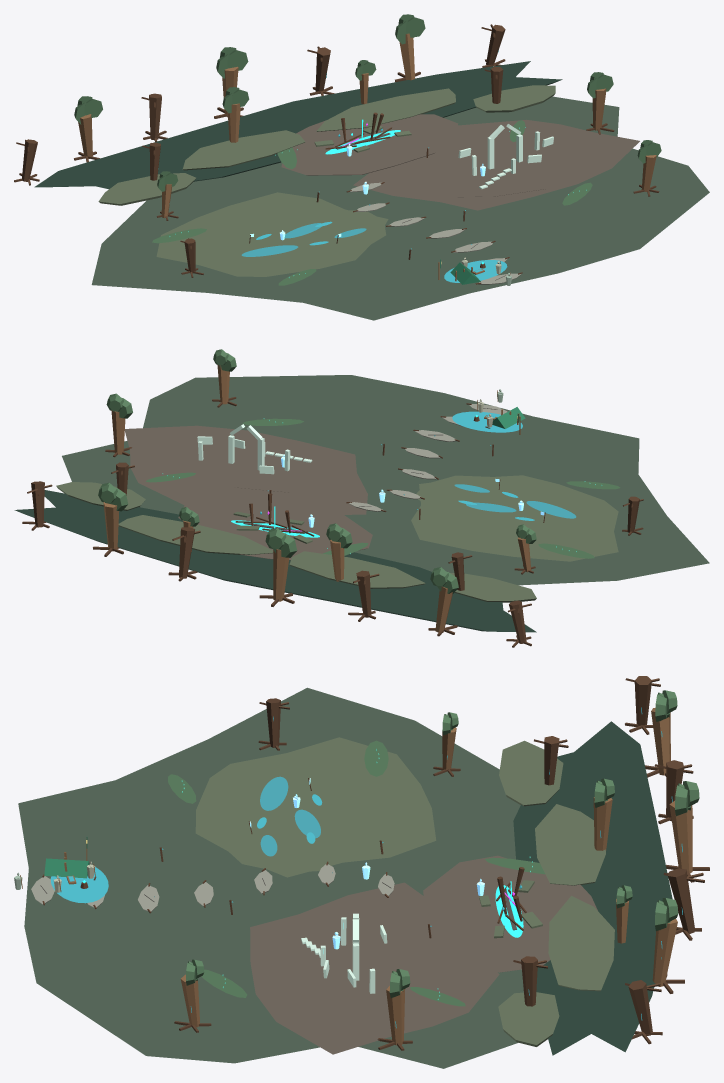
The model's file is memory_wastes_outer_fringe_v001.glb.
3 views of the same model, one above another, from view 1: azimuth 30°, elevation 25°; view 2: azimuth 150°, elevation 25°; view 3: azimuth 270°, elevation 25° (orthographic). The views are drawn at different scales.
Visible parts, largest first — view 1: MW_OUTER_TERRAIN_MainGroundedMemoryWastesForestFloor_80x60, MW_OUTER_TERRAIN_BackRidge_DarkerForestEdge, MW_OUTER_TERRAIN_StrainedRootBank_RightRuins, MW_ECHO_FLATS_LowOpenMemoryLeakGround, MW_ROOTSHEAR_RIFT_MainCrackedGroundMound, MW_ORANYN_RUINS_HalfManifestedGroundShelf, MW_OUTER_TERRAIN_SickMossBank_LeftEchoFlat, MW_OUTER_TERRAIN_BackgroundBrokenForestMound_02, MW_OUTER_TERRAIN_BackgroundBrokenForestMound_01, MW_OUTER_TERRAIN_BackgroundBrokenForestMound_00, MW_OUTER_TERRAIN_BackgroundBrokenForestMound_03, MW_WARDEN_CAMP_ProtectedContainmentGlow_WarmCyan (+4 smaller); view 2: MW_OUTER_TERRAIN_MainGroundedMemoryWastesForestFloor_80x60, MW_OUTER_TERRAIN_BackRidge_DarkerForestEdge, MW_OUTER_TERRAIN_StrainedRootBank_RightRuins, MW_ECHO_FLATS_LowOpenMemoryLeakGround, MW_ORANYN_RUINS_HalfManifestedGroundShelf, MW_OUTER_TERRAIN_SickMossBank_LeftEchoFlat, MW_ROOTSHEAR_RIFT_MainCrackedGroundMound, MW_OUTER_TERRAIN_BackgroundBrokenForestMound_02, MW_OUTER_TERRAIN_BackgroundBrokenForestMound_01, MW_OUTER_TERRAIN_BackgroundBrokenForestMound_00, MW_OUTER_TERRAIN_BackgroundBrokenForestMound_03, MW_WARDEN_CAMP_ProtectedContainmentGlow_WarmCyan (+7 smaller); view 3: MW_OUTER_TERRAIN_MainGroundedMemoryWastesForestFloor_80x60, MW_OUTER_TERRAIN_BackRidge_DarkerForestEdge, MW_OUTER_TERRAIN_StrainedRootBank_RightRuins, MW_ECHO_FLATS_LowOpenMemoryLeakGround, MW_ORANYN_RUINS_HalfManifestedGroundShelf, MW_ROOTSHEAR_RIFT_MainCrackedGroundMound, MW_OUTER_TERRAIN_SickMossBank_LeftEchoFlat, MW_OUTER_TERRAIN_BackgroundBrokenForestMound_02, MW_OUTER_TERRAIN_BackgroundBrokenForestMound_01, MW_OUTER_TERRAIN_BackgroundBrokenForestMound_00, MW_OUTER_TERRAIN_BackgroundBrokenForestMound_03, MW_WARDEN_CAMP_ProtectedContainmentGlow_WarmCyan (+15 smaller).
Boxes of the visible parts, x1,y1,x2,y2 form: MW_OUTER_TERRAIN_MainGroundedMemoryWastesForestFloor_80x60: (91,96,709,320); MW_OUTER_TERRAIN_BackRidge_DarkerForestEdge: (34,61,562,189); MW_OUTER_TERRAIN_StrainedRootBank_RightRuins: (353,119,639,210); MW_ECHO_FLATS_LowOpenMemoryLeakGround: (217,209,386,269); MW_ROOTSHEAR_RIFT_MainCrackedGroundMound: (281,114,458,175); MW_ORANYN_RUINS_HalfManifestedGroundShelf: (419,140,600,197); MW_OUTER_TERRAIN_SickMossBank_LeftEchoFlat: (156,192,388,276); MW_OUTER_TERRAIN_BackgroundBrokenForestMound_02: (316,88,455,131); MW_OUTER_TERRAIN_BackgroundBrokenForestMound_01: (182,130,304,170); MW_OUTER_TERRAIN_BackgroundBrokenForestMound_00: (98,173,196,205); MW_OUTER_TERRAIN_BackgroundBrokenForestMound_03: (473,85,555,112); MW_WARDEN_CAMP_ProtectedContainmentGlow_WarmCyan: (444,260,507,282); MW_OUTER_TERRAIN_MainGroundedMemoryWastesForestFloor_80x60: (62,375,709,585); MW_OUTER_TERRAIN_BackRidge_DarkerForestEdge: (14,490,536,632); MW_OUTER_TERRAIN_StrainedRootBank_RightRuins: (124,425,367,514); MW_ECHO_FLATS_LowOpenMemoryLeakGround: (416,475,604,539); MW_ORANYN_RUINS_HalfManifestedGroundShelf: (161,434,338,492); MW_OUTER_TERRAIN_SickMossBank_LeftEchoFlat: (411,475,618,561); MW_ROOTSHEAR_RIFT_MainCrackedGroundMound: (178,496,372,560); MW_OUTER_TERRAIN_BackgroundBrokenForestMound_02: (118,515,273,554); MW_OUTER_TERRAIN_BackgroundBrokenForestMound_01: (289,551,425,588); MW_OUTER_TERRAIN_BackgroundBrokenForestMound_00: (450,573,536,602); MW_OUTER_TERRAIN_BackgroundBrokenForestMound_03: (56,482,145,510); MW_WARDEN_CAMP_ProtectedContainmentGlow_WarmCyan: (452,411,522,432); MW_OUTER_TERRAIN_MainGroundedMemoryWastesForestFloor_80x60: (18,687,523,1068); MW_OUTER_TERRAIN_BackRidge_DarkerForestEdge: (513,721,672,1055); MW_OUTER_TERRAIN_StrainedRootBank_RightRuins: (250,882,499,1054); MW_ECHO_FLATS_LowOpenMemoryLeakGround: (210,764,386,872); MW_ORANYN_RUINS_HalfManifestedGroundShelf: (261,915,419,1025); MW_ROOTSHEAR_RIFT_MainCrackedGroundMound: (423,855,597,972); MW_OUTER_TERRAIN_SickMossBank_LeftEchoFlat: (195,737,436,877); MW_OUTER_TERRAIN_BackgroundBrokenForestMound_02: (548,896,614,991); MW_OUTER_TERRAIN_BackgroundBrokenForestMound_01: (535,804,605,885); MW_OUTER_TERRAIN_BackgroundBrokenForestMound_00: (499,740,563,806); MW_OUTER_TERRAIN_BackgroundBrokenForestMound_03: (498,992,559,1046); MW_WARDEN_CAMP_ProtectedContainmentGlow_WarmCyan: (50,867,108,903).
Size of the model in its own units: 88.14 by 10.01 by 68.01.
